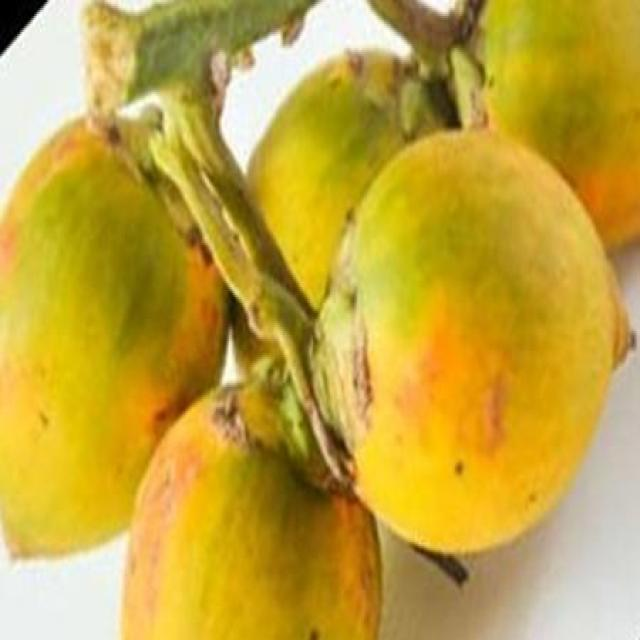good: (313, 124, 631, 566), (0, 114, 232, 562), (118, 385, 384, 638), (245, 34, 484, 313), (479, 0, 639, 255)
